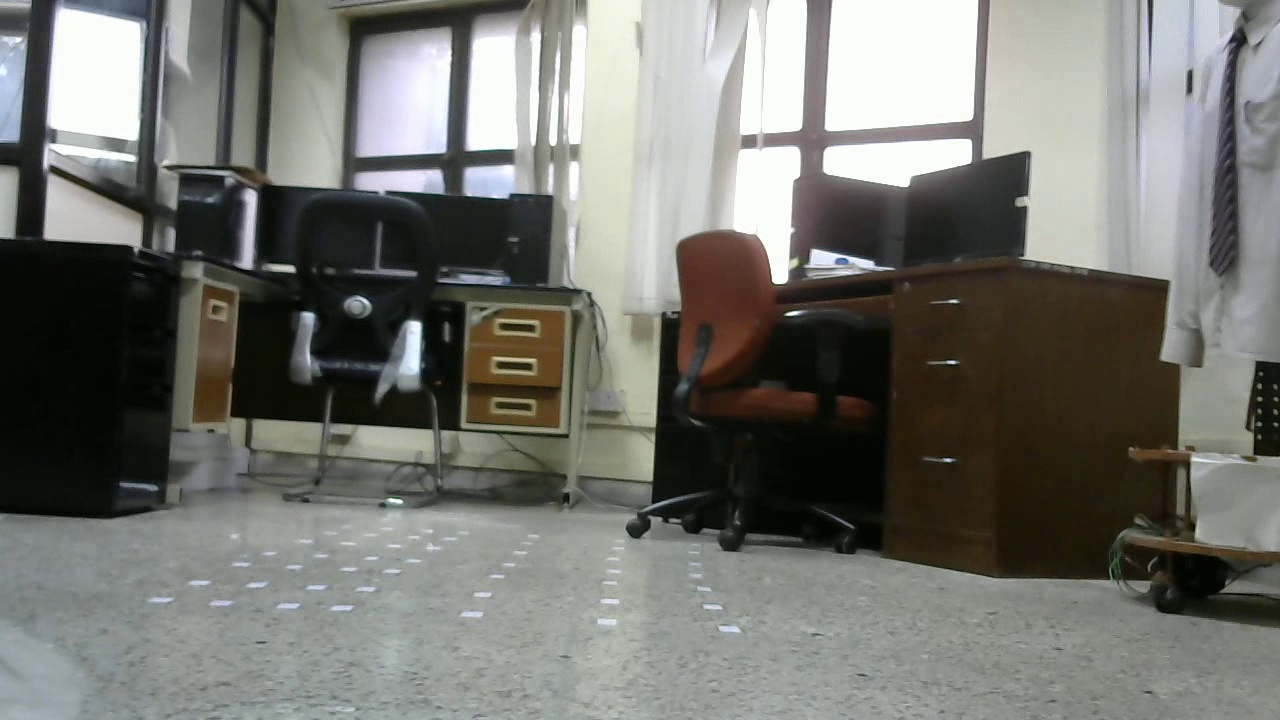chair: (624, 231, 879, 558), (279, 191, 454, 516)
